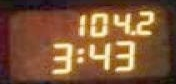-: (128, 28, 134, 36)
0: (88, 11, 106, 37)
1: (73, 11, 84, 37)
2: (133, 8, 153, 36)
3: (111, 37, 135, 72), (48, 40, 71, 75)
4: (86, 40, 110, 71), (110, 10, 130, 34)
X: (73, 45, 84, 64)
